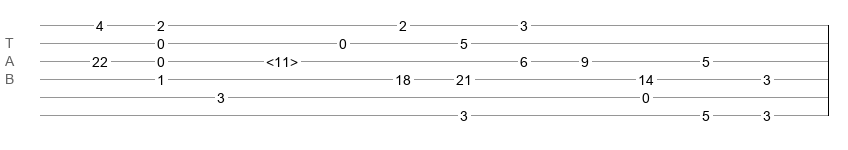0: (157, 54, 165, 64), (157, 36, 165, 46), (339, 36, 347, 46), (642, 90, 650, 100)
1: (157, 72, 165, 82)
14: (638, 72, 654, 82)
18: (395, 72, 411, 82)
2: (157, 18, 165, 28), (399, 18, 407, 28)
21: (456, 72, 472, 82)
22: (92, 54, 108, 64)
3: (217, 90, 225, 100), (460, 108, 468, 118), (520, 18, 528, 28), (763, 72, 771, 82), (763, 108, 771, 118)
4: (96, 18, 104, 28)
5: (460, 36, 468, 46), (702, 54, 710, 64), (702, 108, 710, 118)
6: (520, 54, 528, 64)
9: (581, 54, 589, 64)
harmonic: (266, 54, 298, 64)
